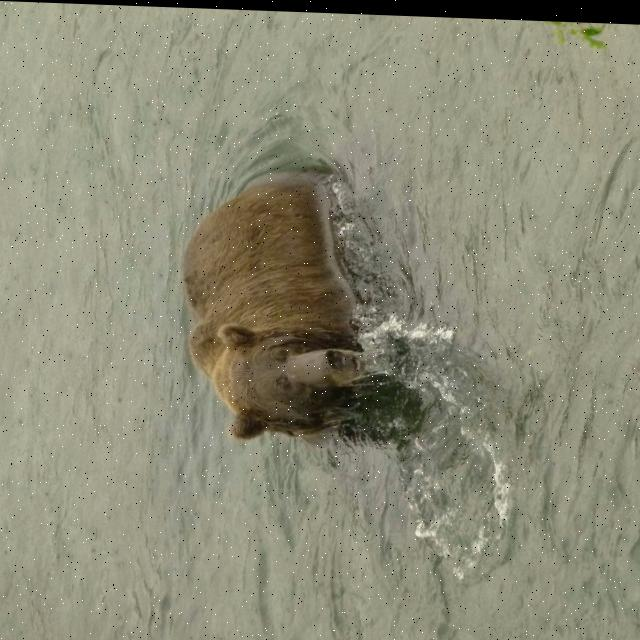bear face: (185, 179, 369, 441)
